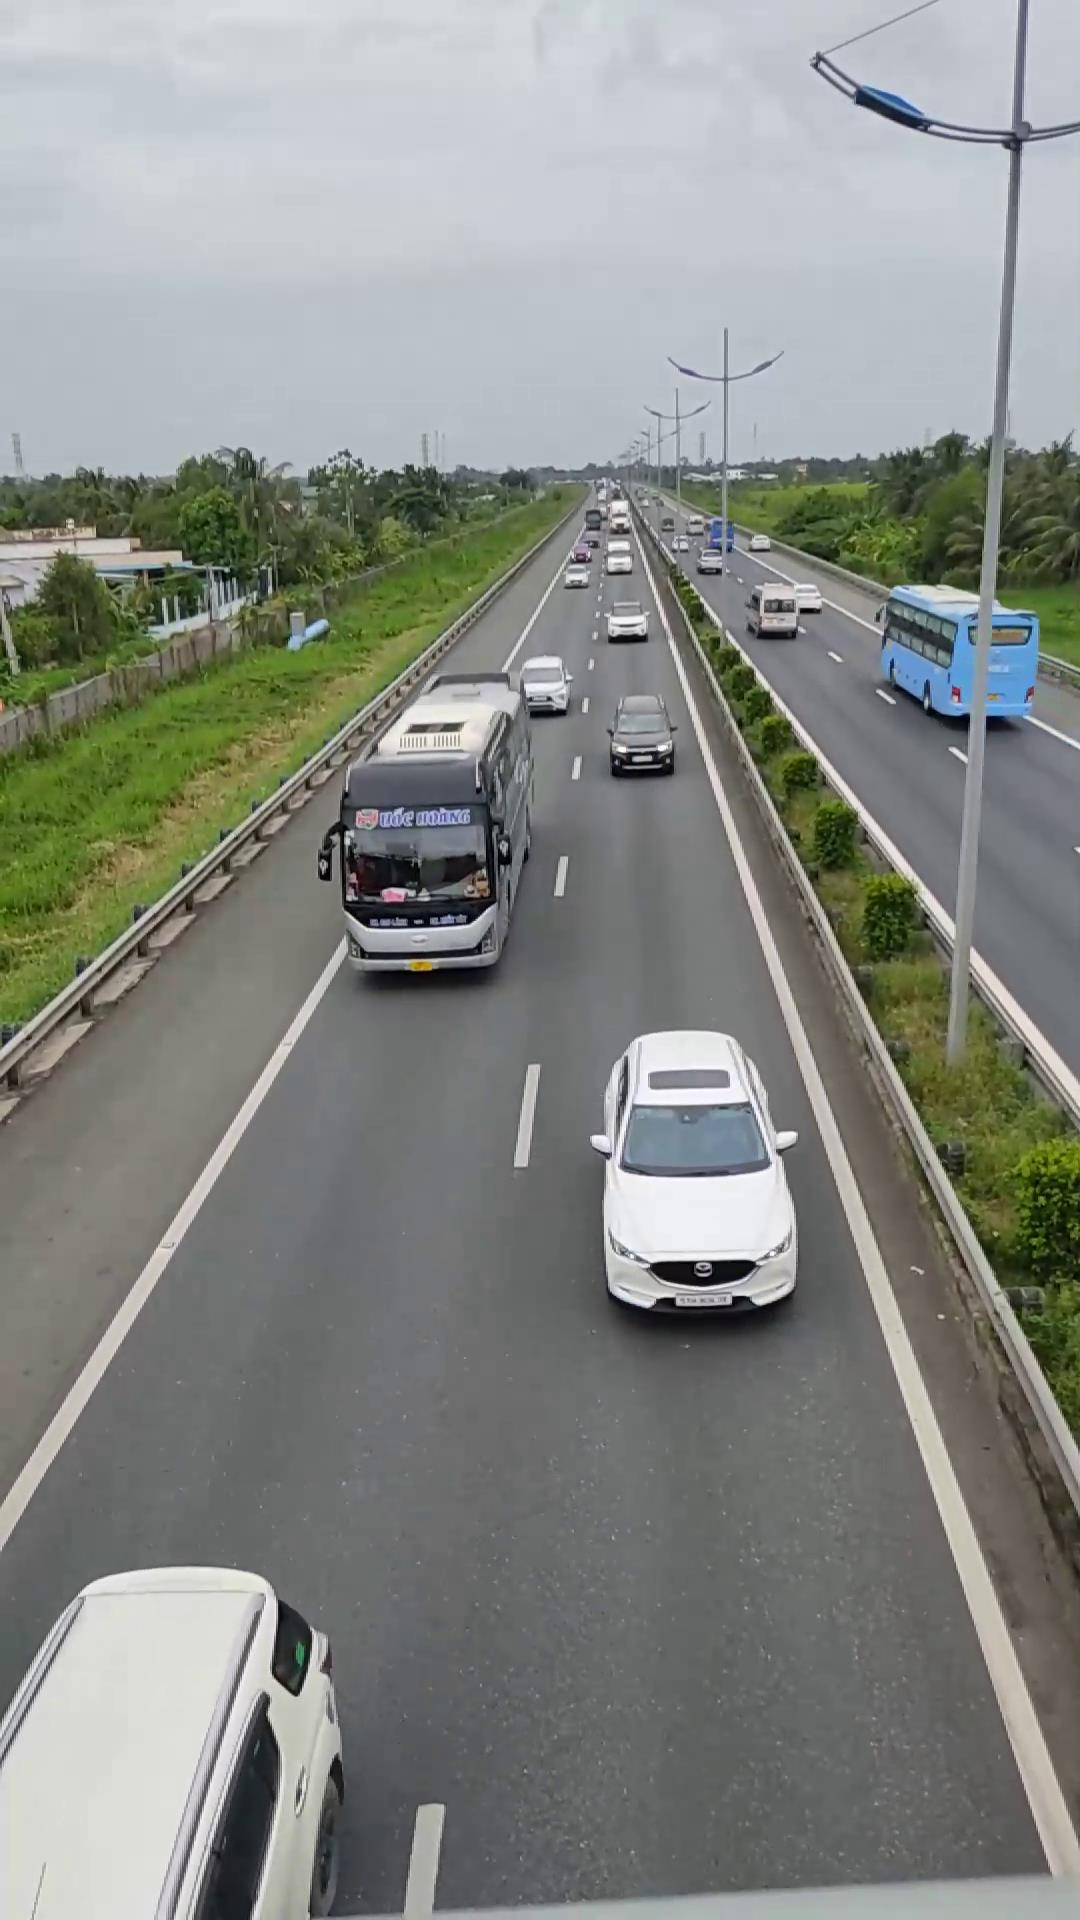bus: (328, 671, 533, 981)
car: (0, 1560, 351, 1917), (589, 1027, 802, 1319), (604, 694, 679, 775), (510, 655, 578, 713)
